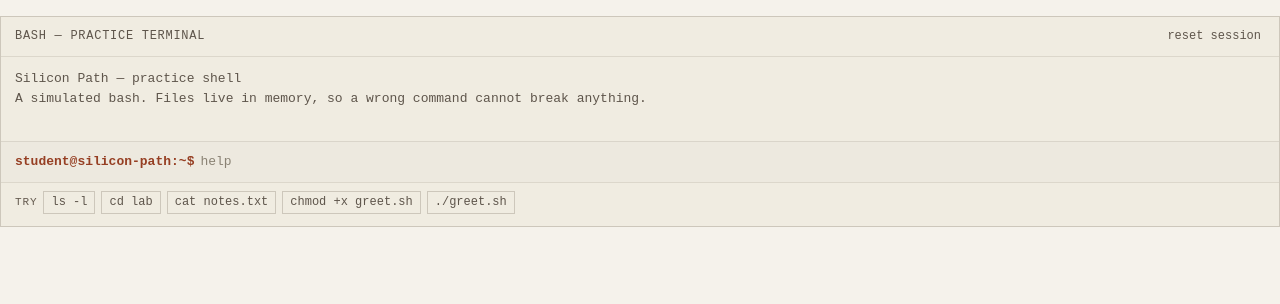
Test: BashTerminal › respects directory permissions
Type "chmod 000 reports" into the field named "Terminal command" at (733, 162), box x1=200 y1=152 x2=1265 y2=172
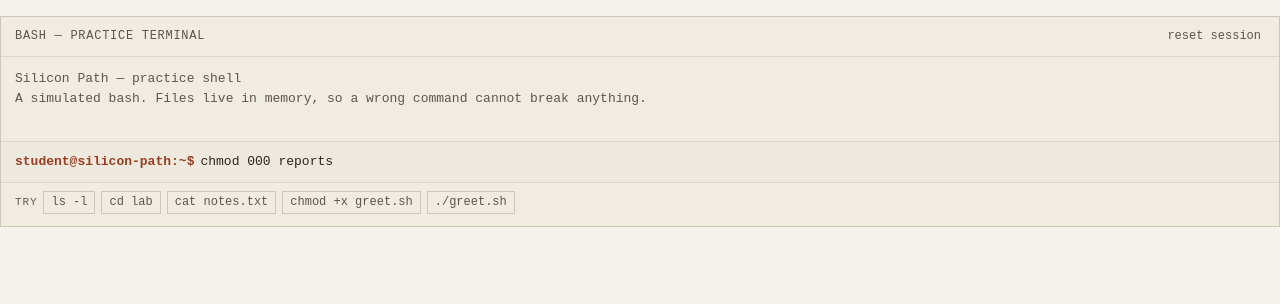
Submit the form named "Terminal command", box x1=1 y1=141 x2=1279 y2=182
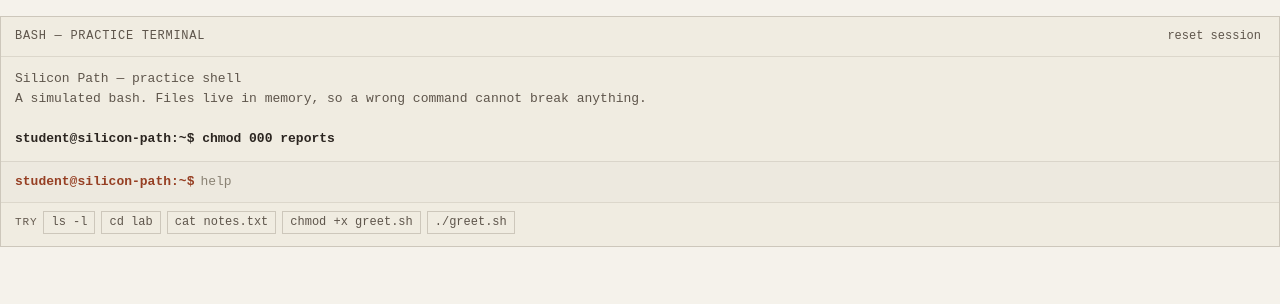
Type "cd reports" into the field named "Terminal command" at (733, 182), box x1=200 y1=172 x2=1265 y2=192
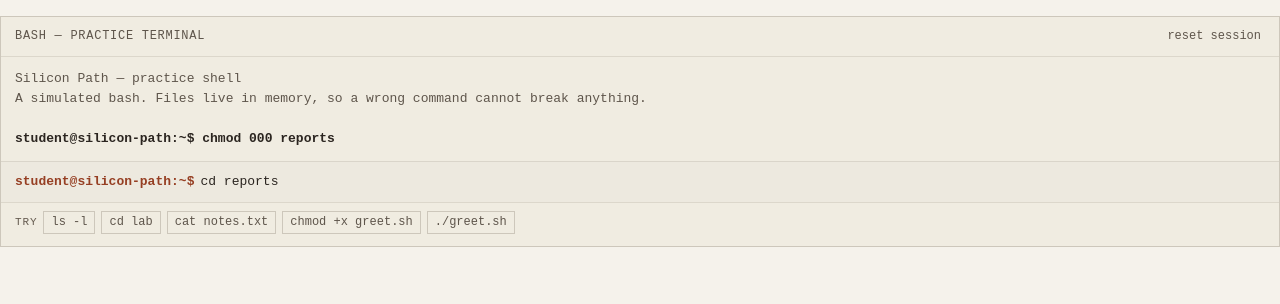
Submit the form named "Terminal command", box x1=1 y1=161 x2=1279 y2=202
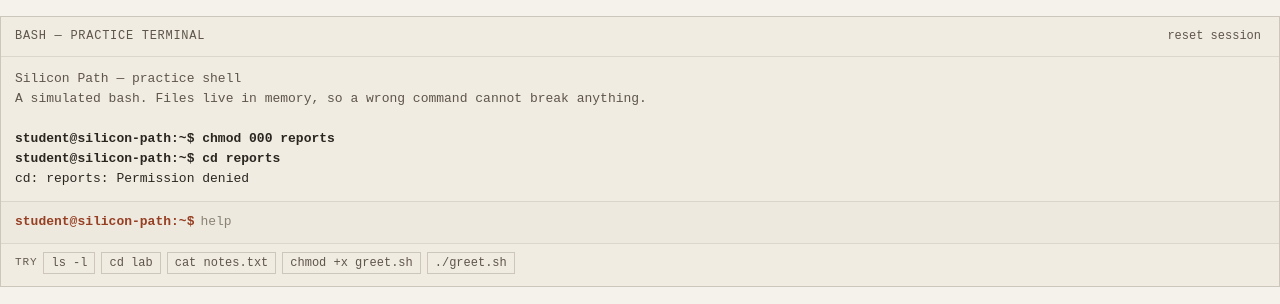
Expected: the element named "Terminal output" shows "Permission denied", x1=15 y1=171 x2=249 y2=186
Expected: the element named "Terminal output" shows "student@silicon-path:~$ cd reports", x1=15 y1=151 x2=280 y2=166
